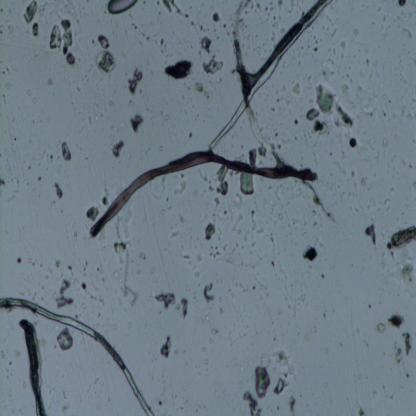Air bubble: (106, 0, 138, 15)
Background material: (315, 81, 355, 128), (384, 221, 416, 258), (269, 346, 299, 382), (355, 81, 375, 121), (51, 278, 76, 309), (121, 258, 136, 303), (252, 365, 271, 399), (164, 58, 193, 80), (110, 235, 134, 260), (397, 257, 416, 285), (60, 18, 74, 56), (153, 290, 178, 311), (203, 53, 225, 76), (94, 50, 116, 73), (242, 391, 263, 415), (127, 67, 144, 96), (56, 326, 74, 352), (163, 2, 188, 20), (239, 172, 257, 196), (362, 140, 382, 161), (159, 332, 173, 360), (173, 169, 189, 192), (60, 139, 74, 165), (363, 224, 377, 249), (23, 1, 39, 22), (129, 113, 144, 135), (202, 280, 215, 305), (390, 345, 404, 367), (303, 319, 317, 341), (396, 21, 414, 38), (386, 312, 404, 329), (180, 293, 190, 323), (158, 38, 173, 58), (230, 214, 245, 234), (50, 25, 61, 52), (246, 146, 260, 167), (112, 139, 126, 160), (302, 244, 318, 262), (273, 378, 289, 396), (204, 222, 218, 242), (215, 178, 230, 196), (401, 100, 416, 118), (402, 332, 413, 356), (92, 263, 104, 285), (208, 243, 223, 260), (224, 247, 239, 264), (97, 32, 111, 50), (323, 61, 335, 82), (236, 275, 249, 294), (216, 164, 228, 183), (200, 36, 212, 55), (314, 122, 330, 136), (240, 18, 250, 40), (305, 106, 320, 120), (287, 395, 298, 414), (86, 206, 99, 222), (255, 276, 268, 292), (52, 258, 65, 274), (66, 50, 77, 68), (229, 197, 243, 211), (363, 194, 376, 209), (53, 182, 64, 199), (247, 210, 256, 229), (226, 19, 235, 38), (212, 198, 221, 217), (310, 33, 324, 45), (394, 11, 406, 25), (194, 81, 206, 95), (328, 26, 342, 38), (58, 403, 72, 415), (112, 270, 121, 288), (291, 81, 302, 95), (373, 323, 387, 334), (339, 38, 346, 60), (192, 252, 204, 264), (164, 194, 172, 212), (310, 215, 322, 227), (268, 232, 276, 250), (31, 22, 40, 38), (306, 72, 314, 90), (183, 17, 196, 28), (245, 1, 255, 15), (82, 255, 90, 272), (170, 226, 181, 238), (0, 65, 11, 77), (100, 194, 110, 207), (198, 169, 207, 183), (80, 279, 89, 293), (46, 74, 55, 88), (382, 196, 393, 207), (191, 268, 202, 279), (90, 294, 104, 302), (256, 227, 266, 238), (359, 174, 366, 189), (356, 405, 366, 415), (253, 4, 263, 14), (24, 87, 34, 97), (348, 139, 359, 148), (210, 324, 219, 335), (211, 13, 220, 24), (380, 383, 387, 397), (245, 228, 252, 242), (256, 44, 264, 56), (62, 388, 69, 401), (176, 215, 186, 224), (270, 21, 280, 30), (363, 44, 371, 55), (31, 290, 38, 302), (381, 13, 388, 25), (66, 262, 73, 274), (182, 253, 191, 262), (0, 178, 9, 187), (354, 27, 362, 37), (130, 21, 138, 31), (16, 254, 24, 264), (132, 268, 142, 276), (380, 30, 388, 40), (72, 312, 82, 320), (218, 302, 224, 315), (270, 103, 277, 114), (388, 391, 396, 400), (381, 107, 387, 119), (291, 117, 300, 125), (188, 128, 194, 140), (207, 181, 213, 193), (138, 252, 147, 260), (299, 7, 306, 17), (48, 150, 53, 164), (204, 312, 210, 323), (192, 293, 199, 302), (91, 323, 100, 330), (1, 94, 6, 106), (383, 134, 388, 146), (408, 160, 414, 170), (271, 30, 276, 42), (276, 141, 282, 151), (111, 322, 117, 332), (404, 371, 411, 379), (281, 84, 288, 92), (192, 188, 199, 196), (199, 24, 206, 32), (351, 169, 356, 180), (399, 0, 408, 6), (73, 228, 78, 238), (364, 59, 371, 66), (278, 0, 284, 8), (203, 356, 209, 364), (346, 190, 352, 198), (0, 351, 6, 359), (272, 132, 280, 138), (312, 46, 318, 54), (322, 312, 327, 321), (90, 36, 95, 45), (161, 209, 167, 216), (250, 283, 256, 290), (223, 209, 229, 216), (234, 238, 240, 245), (337, 342, 344, 348), (306, 44, 311, 52), (332, 48, 337, 56), (158, 400, 163, 408), (371, 392, 376, 400), (269, 260, 274, 268), (127, 322, 132, 330), (97, 310, 102, 318), (22, 380, 27, 388), (278, 212, 282, 221), (366, 303, 372, 309), (208, 338, 214, 344), (44, 274, 50, 280), (26, 257, 32, 263), (386, 96, 391, 103), (237, 228, 242, 235), (376, 5, 381, 12), (37, 174, 42, 181), (264, 5, 268, 13), (252, 240, 256, 248), (276, 97, 281, 103), (269, 0, 274, 6), (320, 274, 326, 279), (184, 284, 189, 290), (346, 72, 350, 79), (232, 68, 236, 75), (8, 359, 12, 366), (34, 97, 38, 104), (156, 0, 161, 5), (348, 63, 351, 71), (272, 14, 276, 20), (268, 6, 274, 10), (324, 381, 328, 387), (268, 12, 272, 17), (223, 24, 227, 29), (357, 376, 362, 380), (140, 0, 145, 4), (216, 35, 219, 41), (147, 35, 150, 41), (157, 11, 161, 15), (40, 286, 44, 290), (40, 264, 44, 268), (204, 346, 206, 352), (33, 262, 35, 266)
Cellulose filter fibre: (208, 1, 332, 152), (0, 296, 156, 415), (17, 316, 49, 415)
Cotton: (88, 146, 322, 240)
